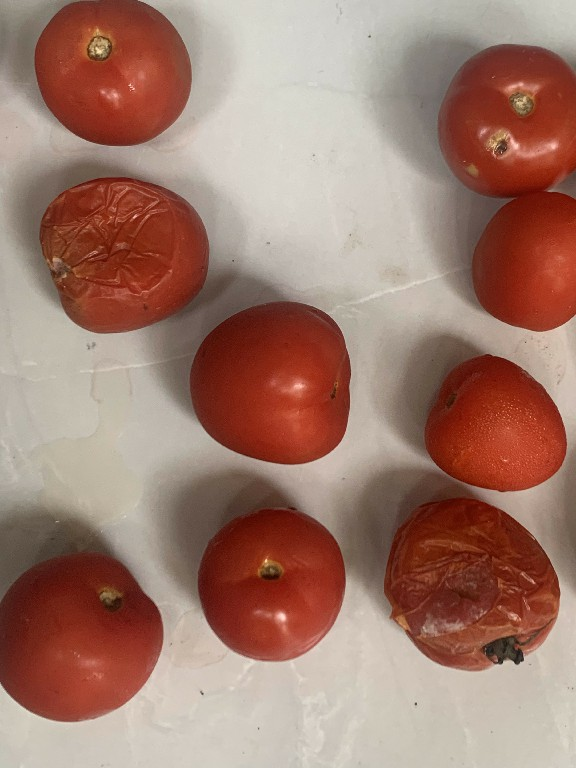NG: (381, 499, 561, 674), (37, 173, 211, 335), (431, 39, 575, 194)
OK: (181, 298, 354, 465), (0, 551, 162, 726), (15, 1, 205, 145), (197, 499, 346, 669), (424, 353, 574, 497), (461, 189, 575, 339)
